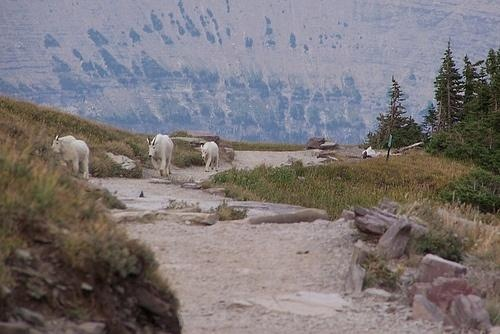cow: (54, 133, 92, 182), (147, 134, 174, 176), (201, 141, 220, 172)
